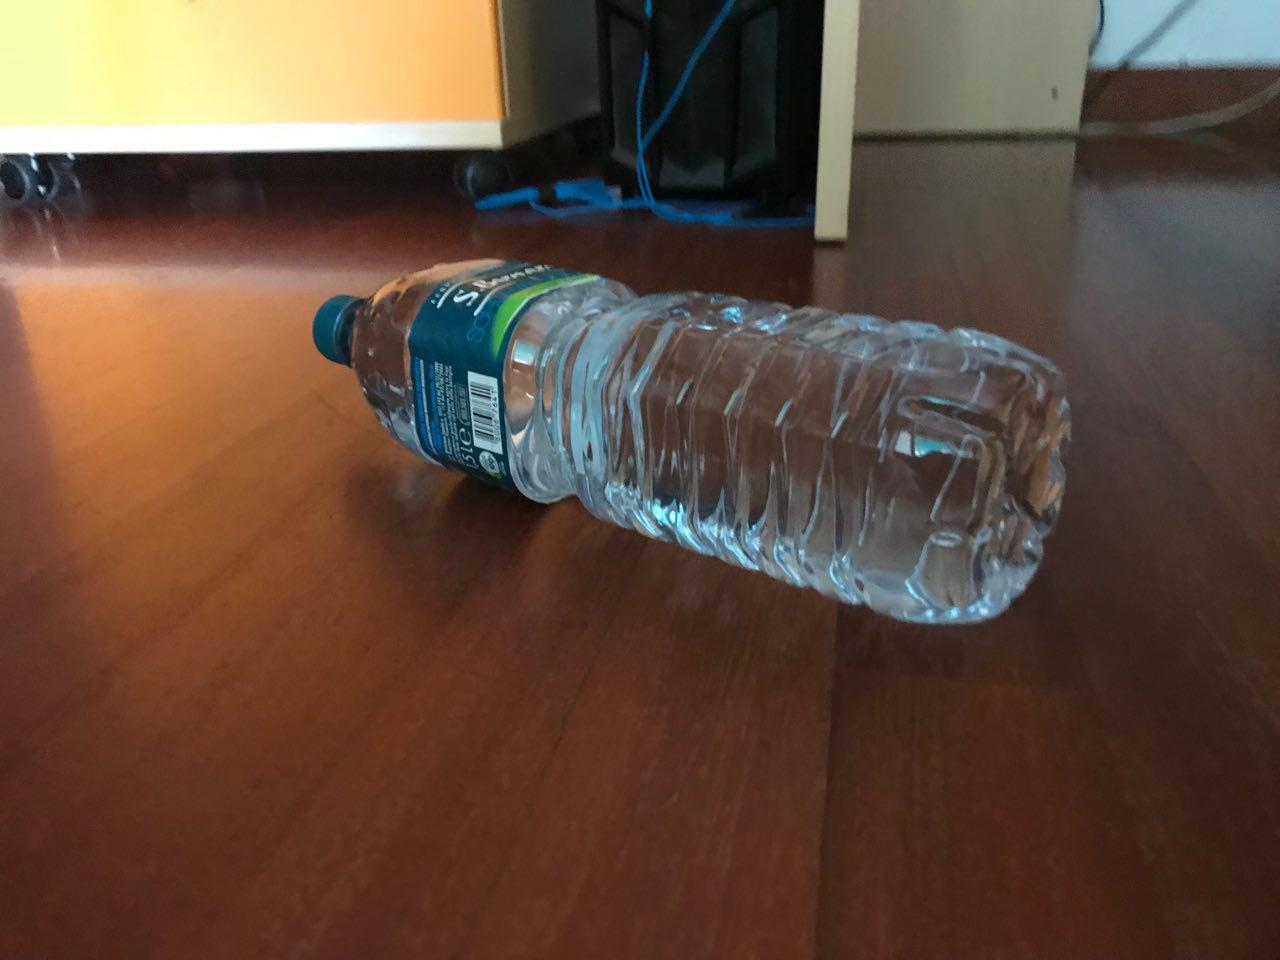san_bernardo: (313, 257, 1075, 628)
